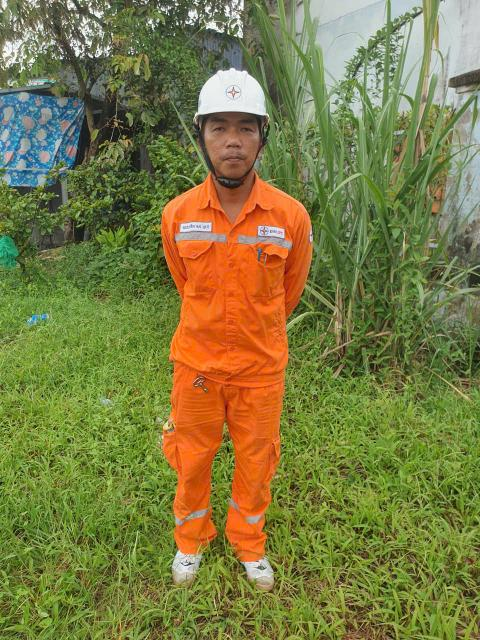helmet: (190, 56, 276, 132)
shoes: (224, 538, 290, 592), (161, 536, 208, 598)
